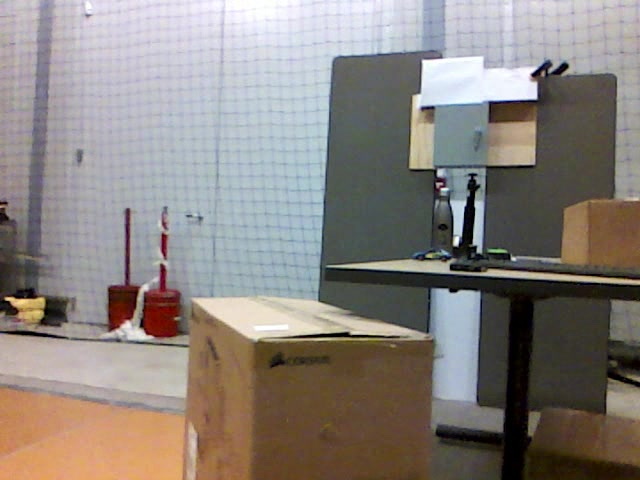box: (188, 294, 431, 480), (531, 407, 640, 478), (562, 197, 640, 269)
